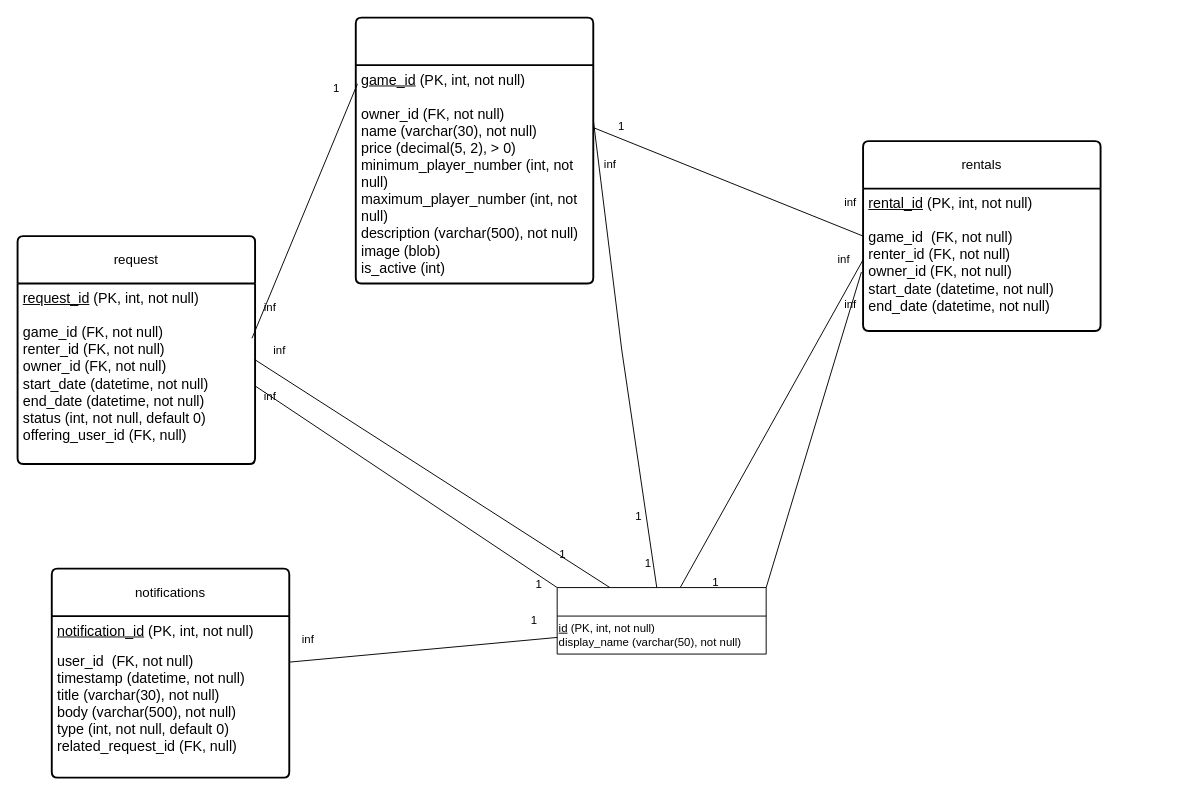
The diagram is 1183 pixels wide and 794 high, and some of its shapes have lost their labels. The shapes that lost their labels are listed below. From the top down, each one's box as (x1, y1, x2, y2) in pixels, then its label:
(354, 16, 594, 284): games
(556, 587, 766, 654): user
